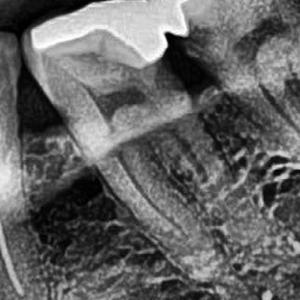tooth: (21, 1, 252, 261), (186, 0, 300, 163)
